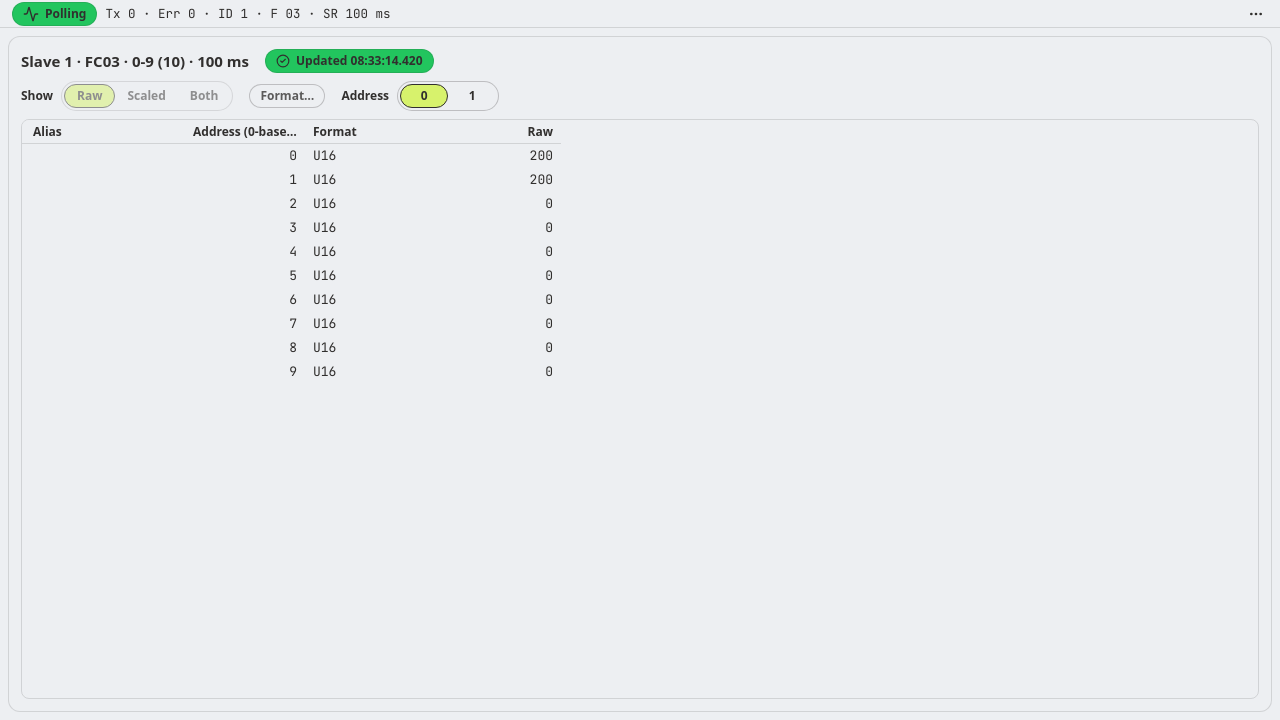
Test case: scopes Value color rules from register 1 to that row even when register 0 has the same value
Right-click the row "1 U16 200" at x=293, y=180, box [289, 171, 553, 188]
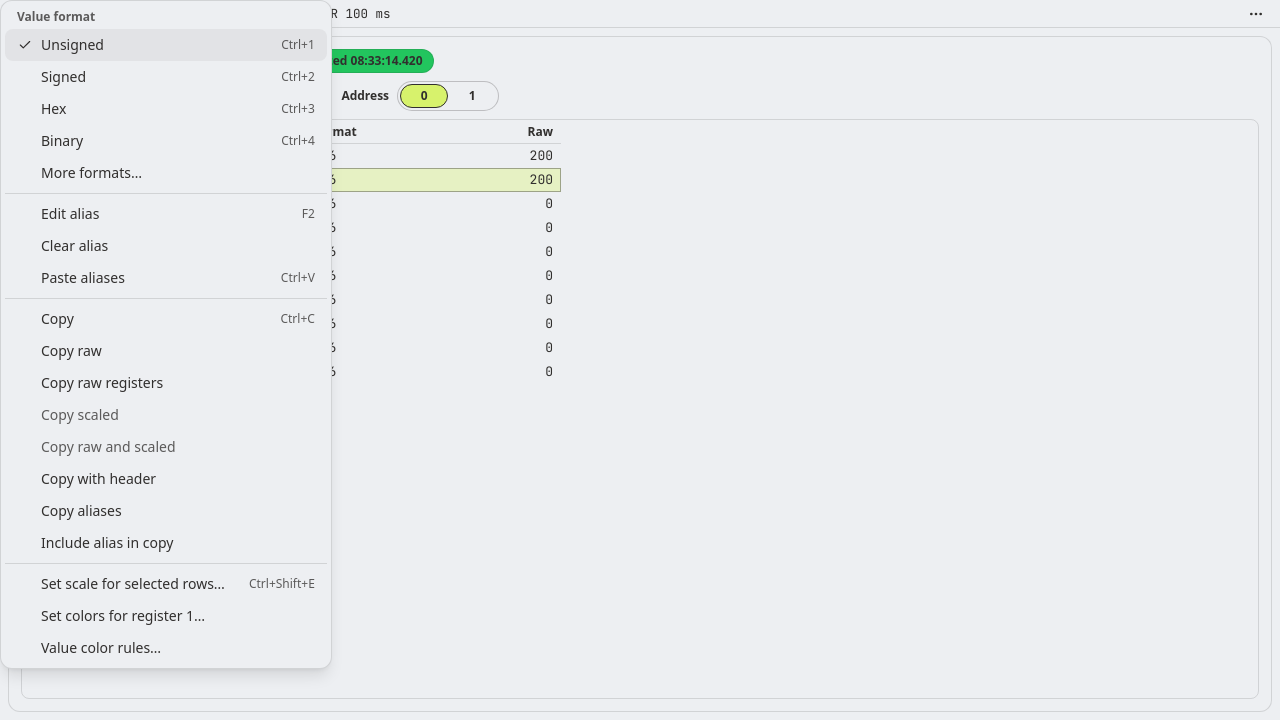
Click the menu item "Value color rules…" at x=101, y=648, box [5, 632, 327, 664]
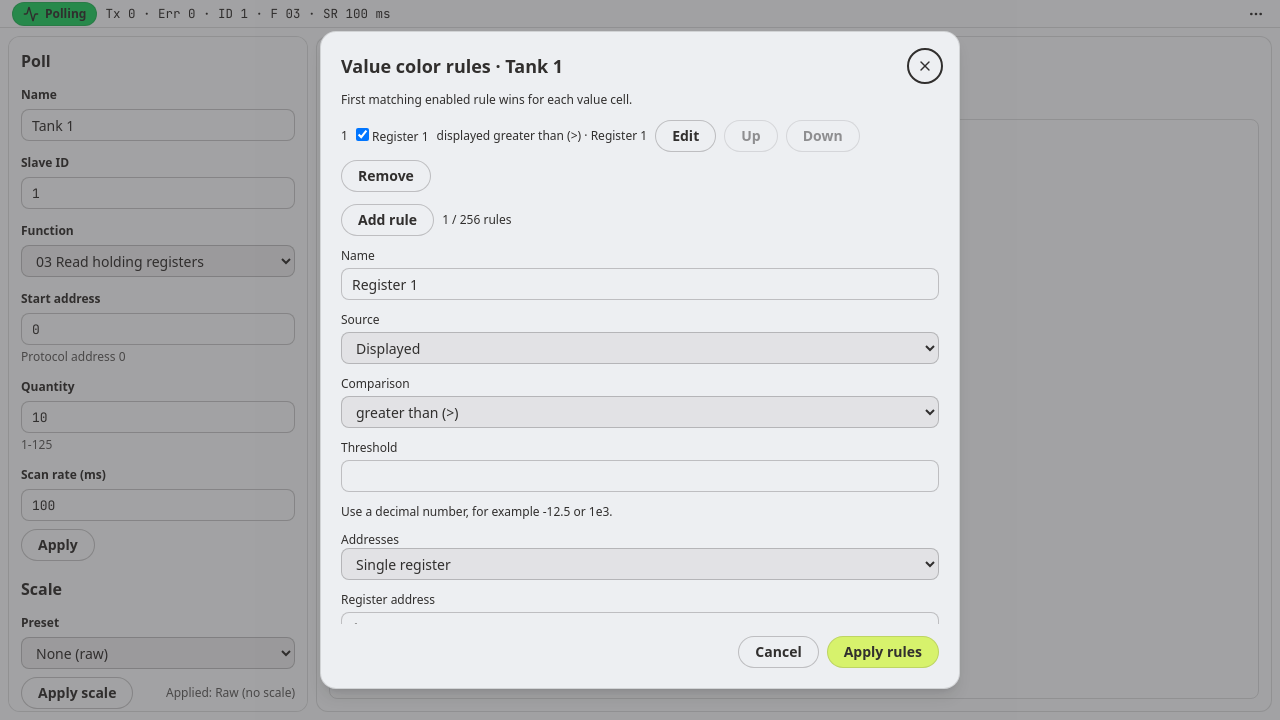
Check: the dropdown labelled "Addresses" shows "Single register", box [341, 548, 939, 580]
Type "50" into the field labelled "Threshold" at x=640, y=476, box [341, 460, 939, 492]
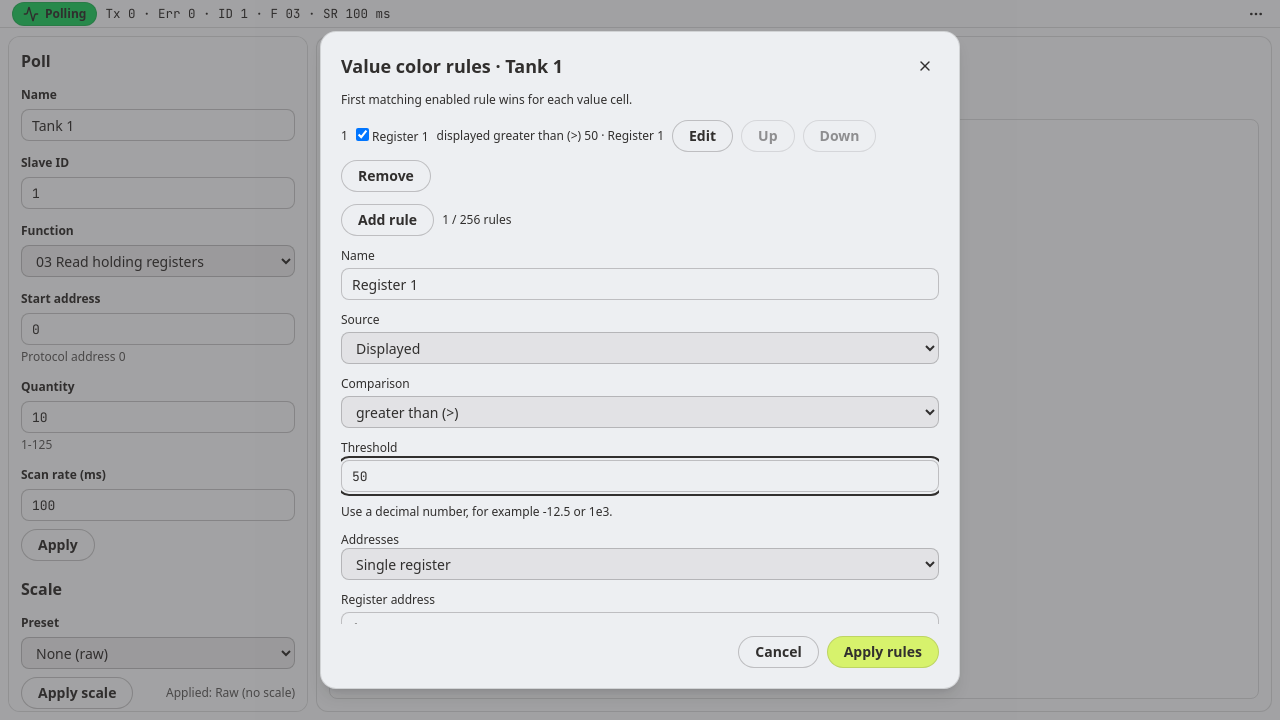
Click the button "Apply rules" at x=883, y=652, box [827, 636, 939, 668]
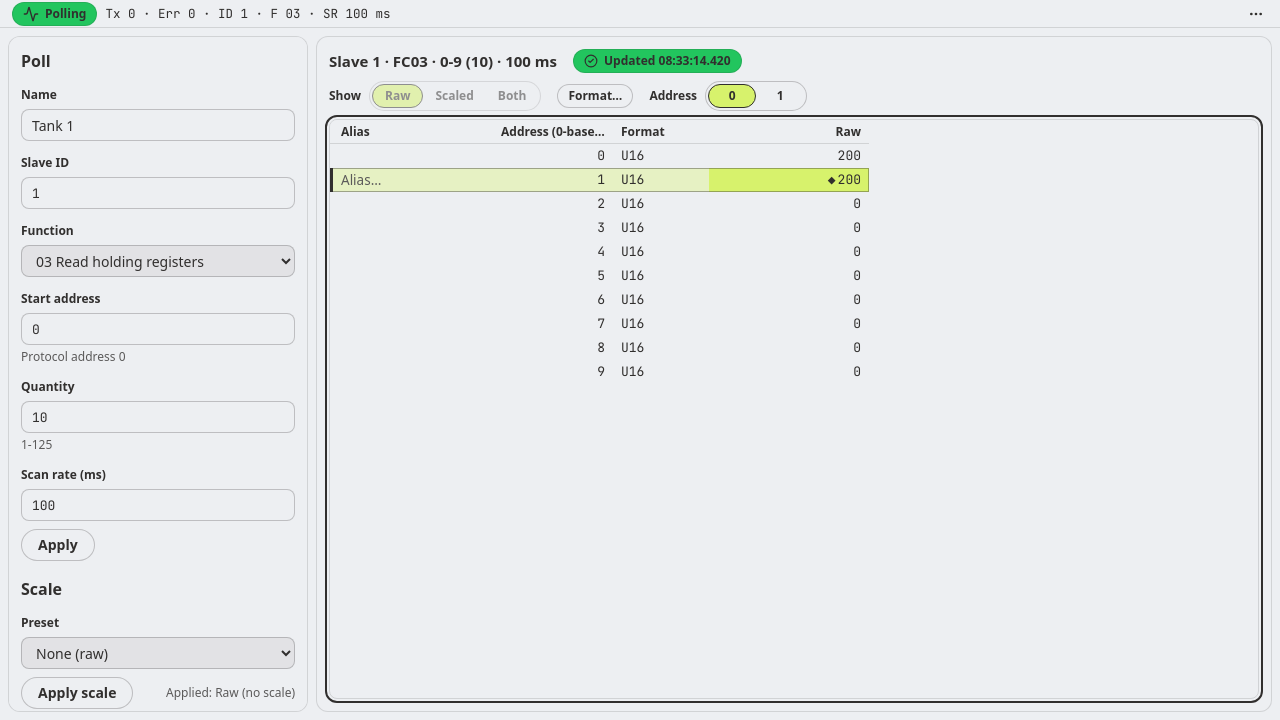
Check: the picture named "Rule: Register 1" is shown, box [826, 168, 838, 192]
